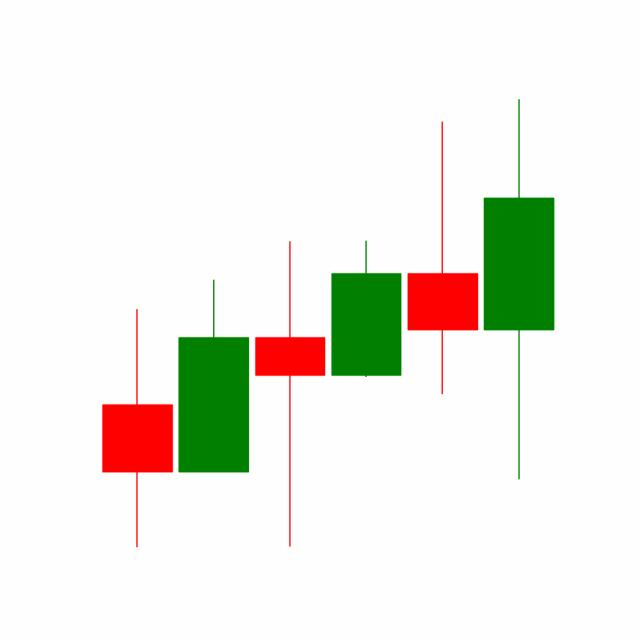Spinning Top: (403, 119, 481, 398)
